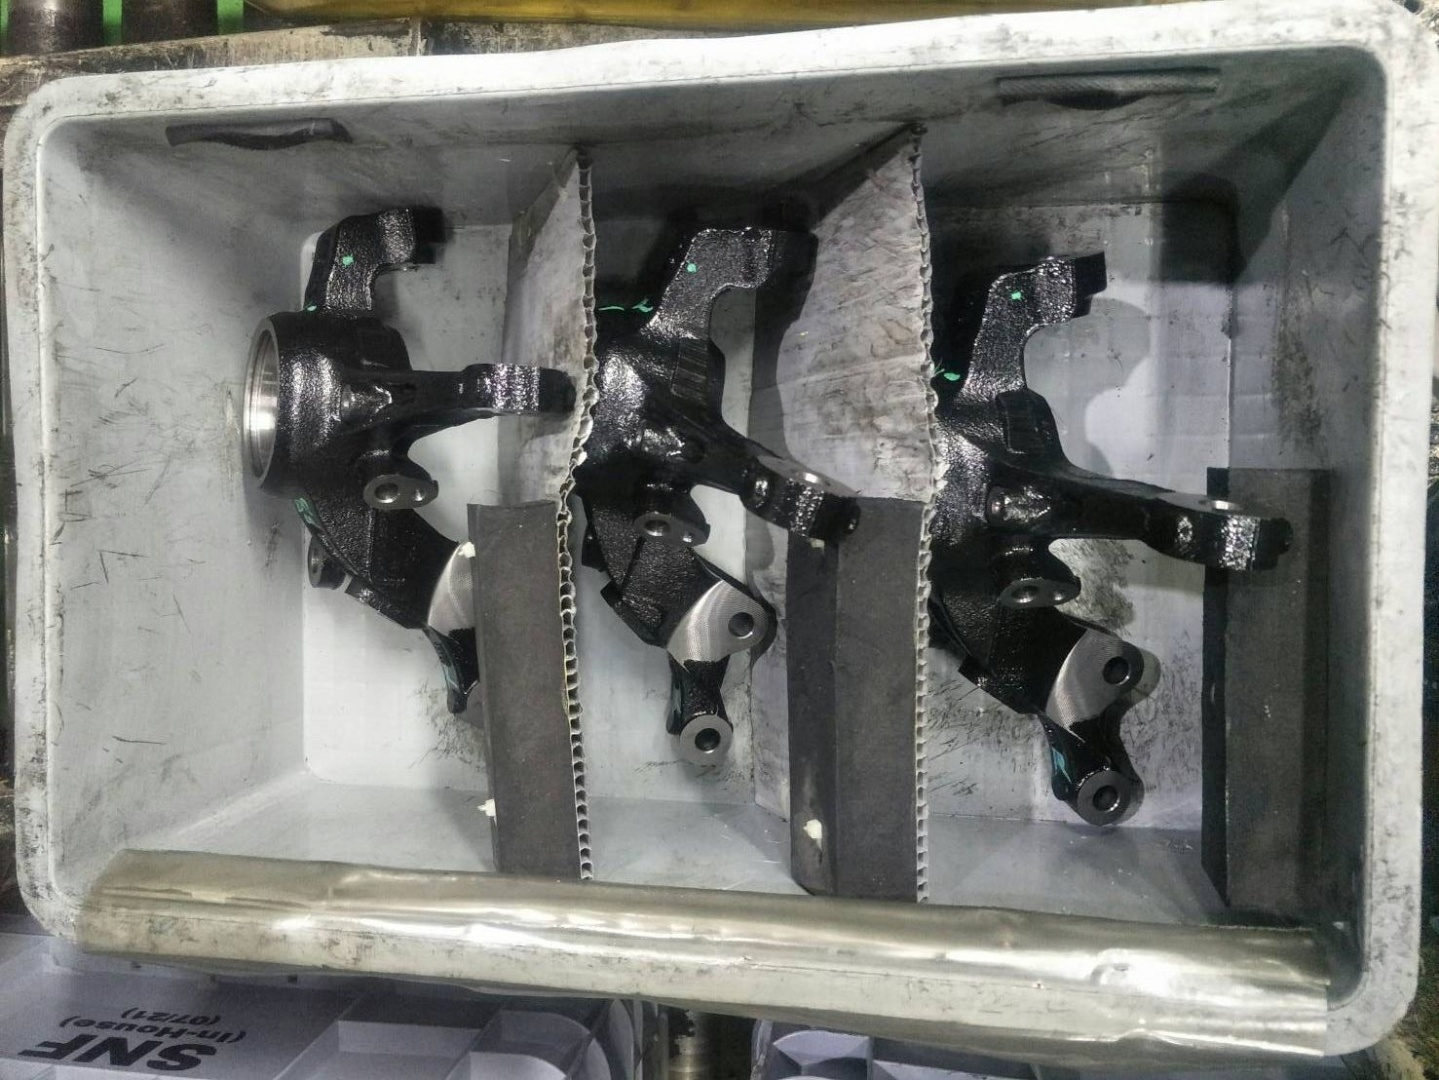abs-rh: (919, 228, 1303, 845), (229, 191, 579, 729), (581, 206, 867, 792)
